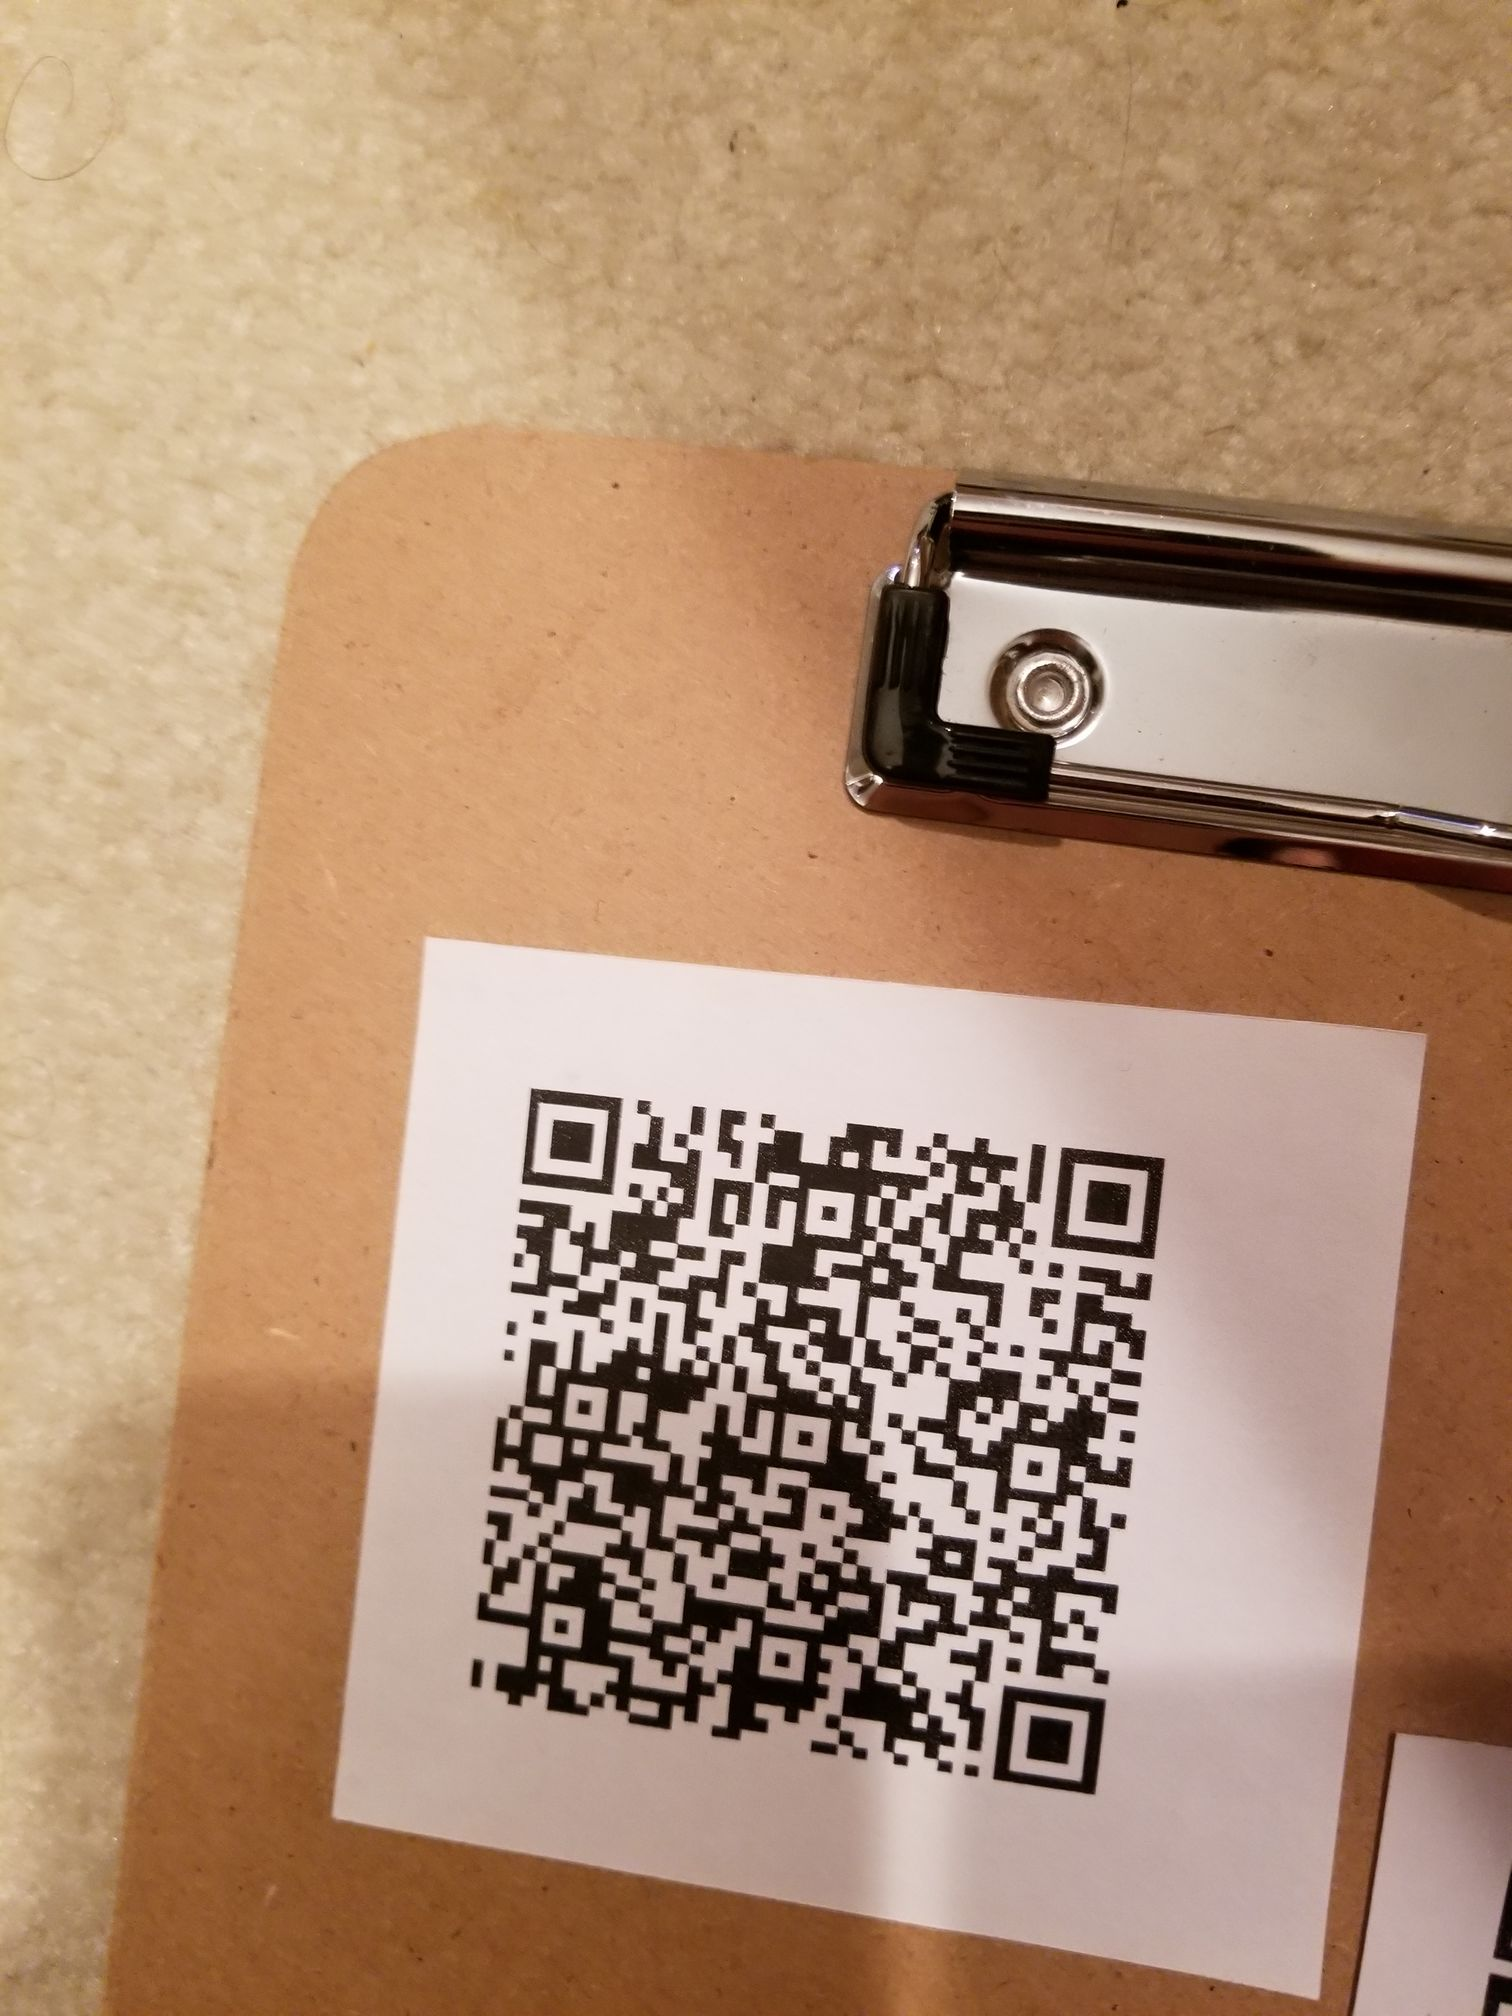QR_CODE: (449, 1056, 1178, 1816)
